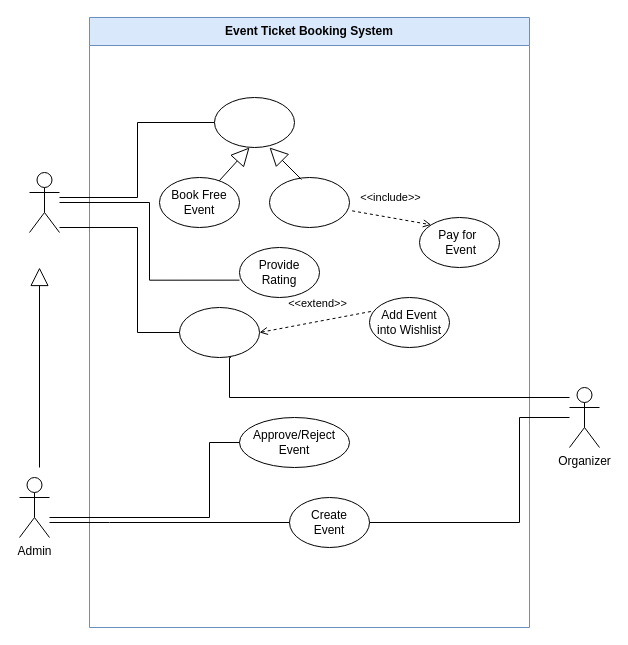
Image size: 628x645. Some labels were removed from this diagram. The box of each missing label's shape, as (x1, y1, x2, y2) in pixels:
Book Event: (214, 96, 294, 148)
Book Paid Event: (268, 176, 350, 228)
Customer: (28, 172, 60, 232)
View Event: (178, 306, 260, 358)
